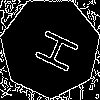H: (25, 23, 80, 75)
